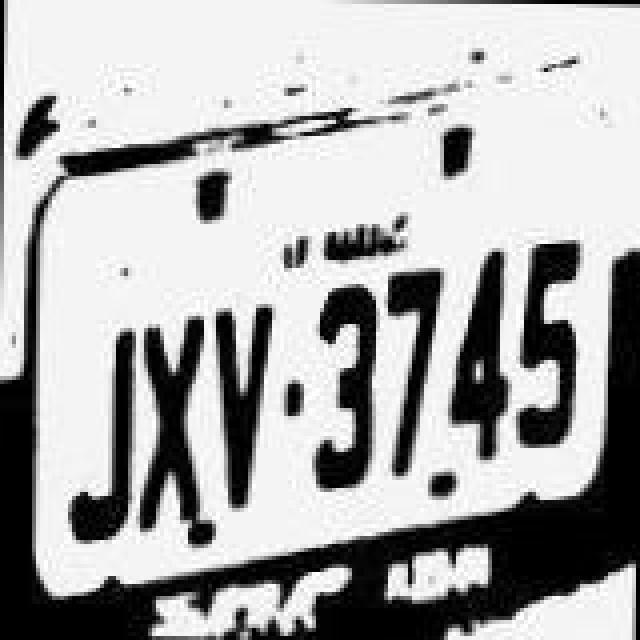3: (306, 276, 378, 500)
4: (446, 236, 514, 464)
5: (516, 234, 588, 462)
7: (378, 268, 446, 488)
J: (60, 326, 136, 546)
V: (206, 294, 278, 510)
X: (136, 312, 204, 532)
